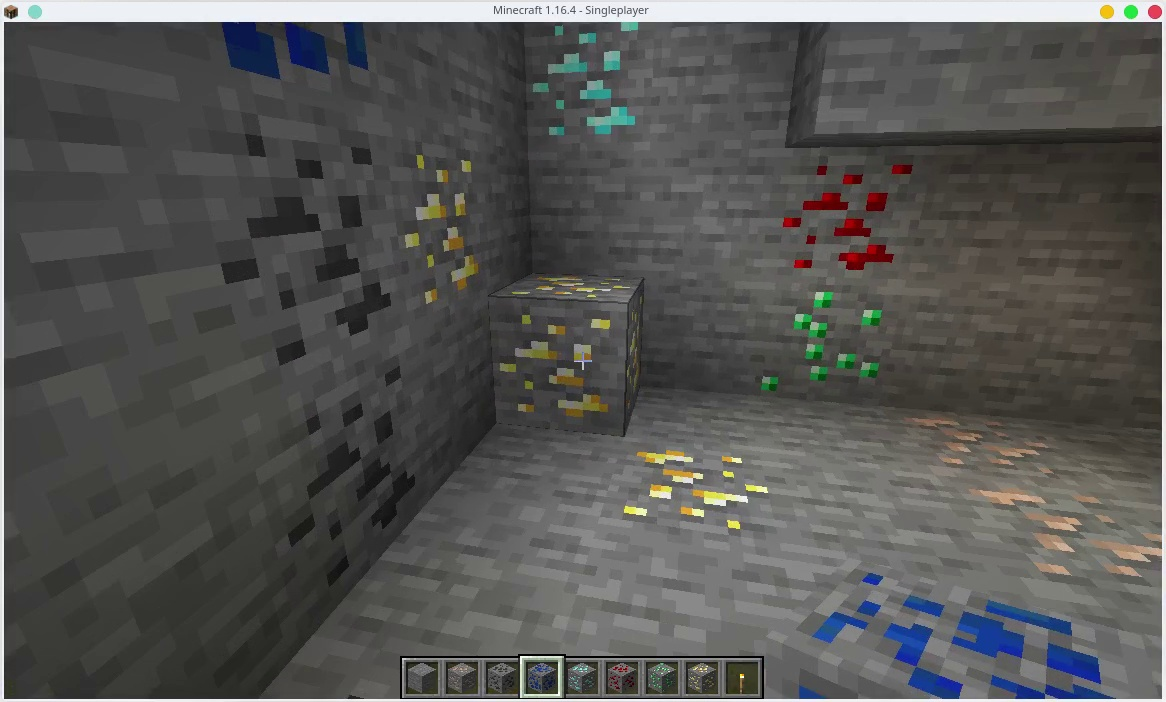gold: (494, 276, 645, 422), (613, 442, 760, 545), (402, 148, 475, 301), (687, 661, 715, 693)
